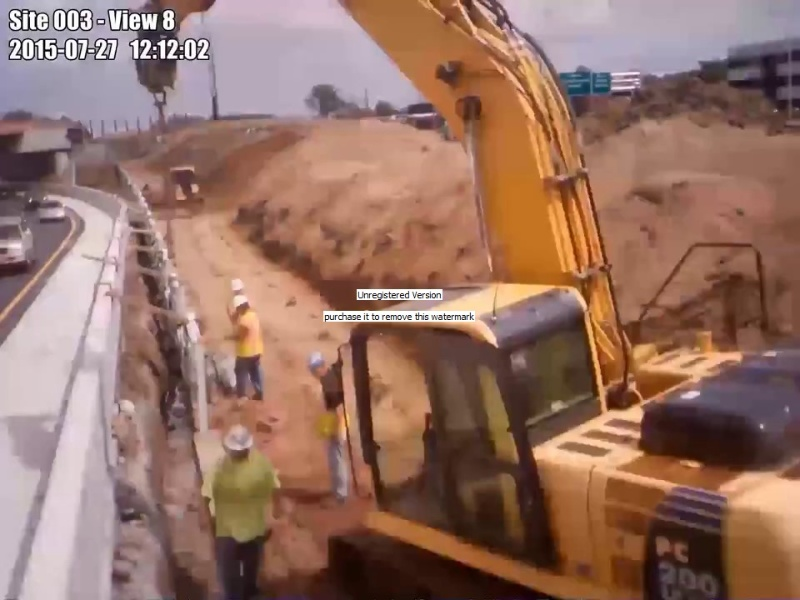bulldozer: (161, 163, 206, 211)
excavator: (133, 1, 800, 598)
hardhat: (224, 426, 253, 450), (233, 295, 248, 306), (230, 279, 243, 291)
person: (199, 424, 285, 600), (308, 352, 353, 501), (226, 295, 266, 401)
wall: (114, 162, 210, 432)
